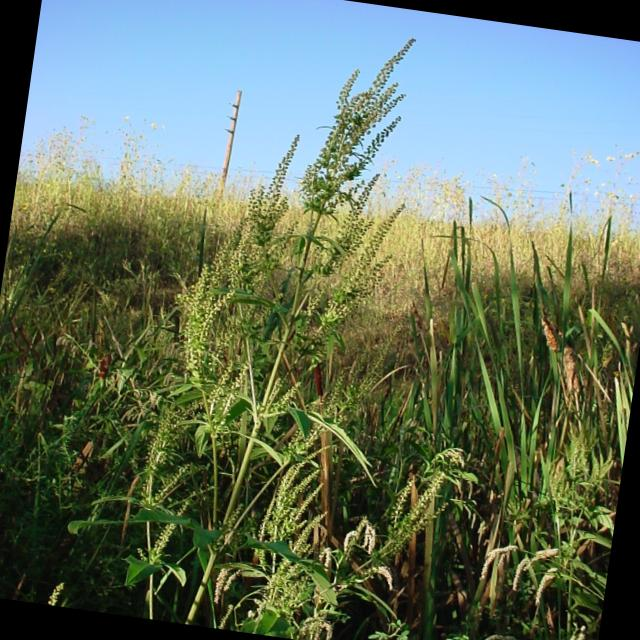ambrosia: (159, 22, 461, 488)
